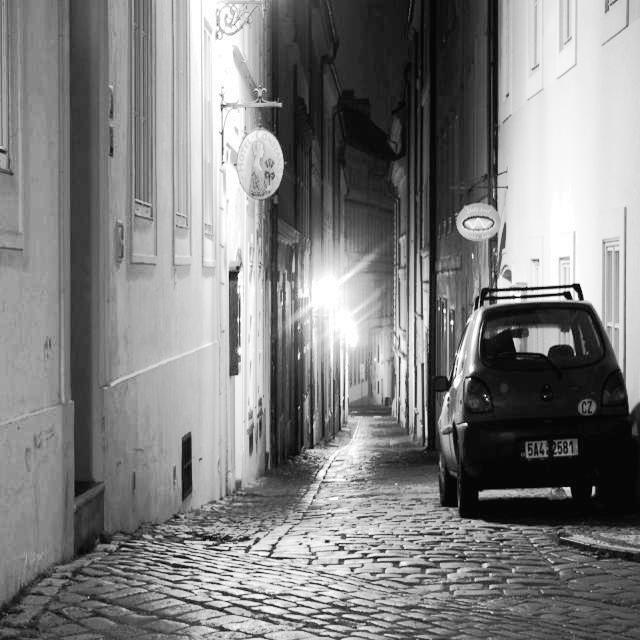Car: (426, 254, 635, 539)
